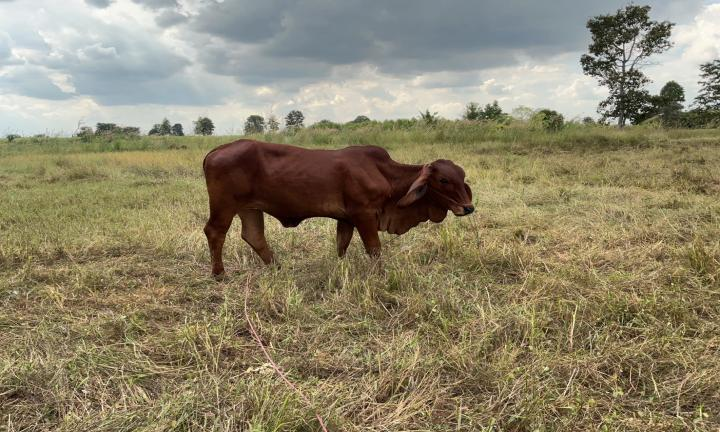Brahman: (203, 139, 473, 274)
